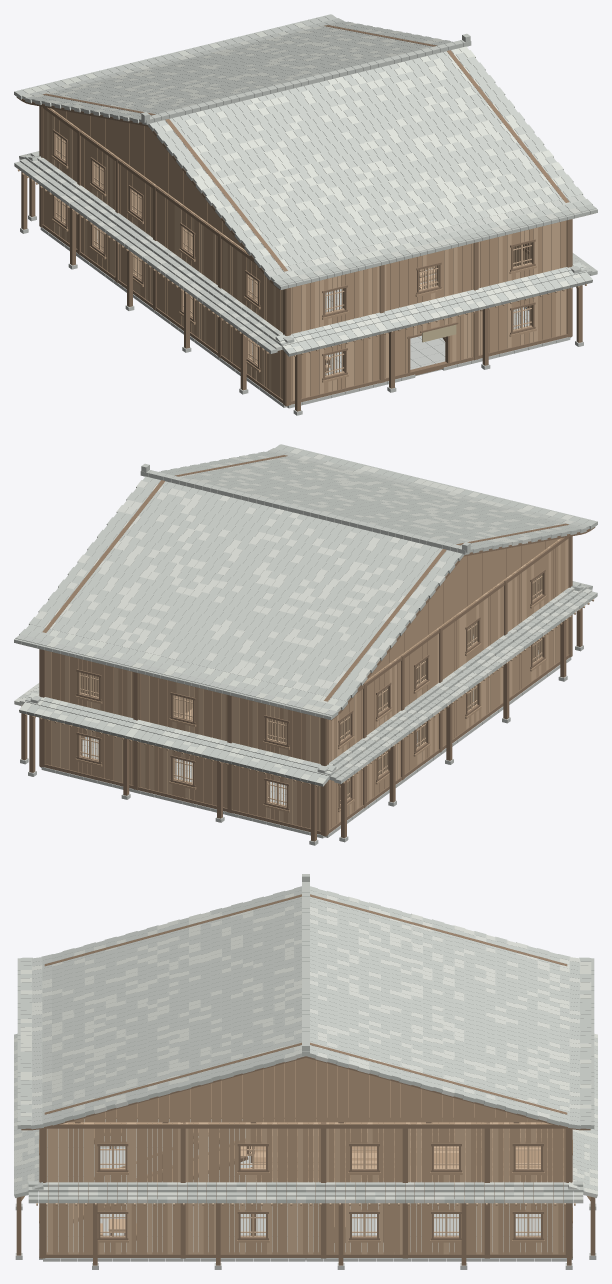
The model's file is Inn_v2_build002.fbx.
The picture shows the model from 3 angles, top to bottom: view 1: azimuth 30°, elevation 25°; view 2: azimuth 150°, elevation 25°; view 3: azimuth 270°, elevation 25°; orthographic projection. The views are drawn at different scales.
Parts seen in each view (by area): view 1: Tiles.006, Tiles.007, Tiles.011, Tiles.008, Gable_W.001, Planks.043, Planks.041, Planks.045, Planks.044, Planks.040, Planks.065, Ridge.002 (+17 smaller); view 2: Tiles.007, Tiles.006, Tiles.011, Tiles.009, Gable_W.001, Planks.049, Planks.047, Planks.051, Planks.050, Planks.048, Planks.046, Planks.065 (+17 smaller); view 3: Tiles.006, Tiles.007, Gable_E.001, Tiles.010, Planks.055, Planks.053, Planks.054, Planks.052, Ground_Stone.001, Planks.059, Planks.057, Planks.061 (+23 smaller).
Part boxes in pixels (x1,y1,x2,y2): Tiles.006: (147,46,596,286); Tiles.007: (15,14,452,124); Tiles.011: (14,151,294,353); Tiles.008: (275,262,592,356); Gable_W.001: (43,93,287,271); Planks.043: (384,243,473,310); Planks.041: (291,266,379,333); Planks.045: (478,220,566,288); Planks.044: (478,289,566,355); Planks.040: (291,334,379,400); Planks.065: (156,186,221,285); Ridge.002: (142,40,471,124); Tiles.007: (15,476,464,717); Tiles.006: (159,444,596,554); Tiles.011: (317,581,597,783); Tiles.009: (19,692,336,786); Gable_W.001: (324,523,568,701); Planks.049: (138,673,227,740); Planks.047: (232,696,320,763); Planks.051: (45,650,133,718); Planks.050: (45,719,133,785); Planks.048: (138,742,227,808); Planks.046: (232,764,320,830); Planks.065: (439,580,504,679); Tiles.006: (20,886,304,1129); Tiles.007: (307,886,591,1129); Gable_E.001: (44,1042,567,1122); Tiles.010: (28,1181,583,1203); Planks.055: (183,1122,320,1185); Planks.053: (46,1122,182,1185); Planks.054: (185,1199,320,1254); Planks.052: (46,1199,180,1254); Ground_Stone.001: (47,1119,563,1259); Planks.059: (405,1122,487,1185); Planks.057: (326,1122,405,1185); Planks.061: (488,1122,565,1185).
Bounding box in the file's own units: 2323 × 1422 × 3327.
